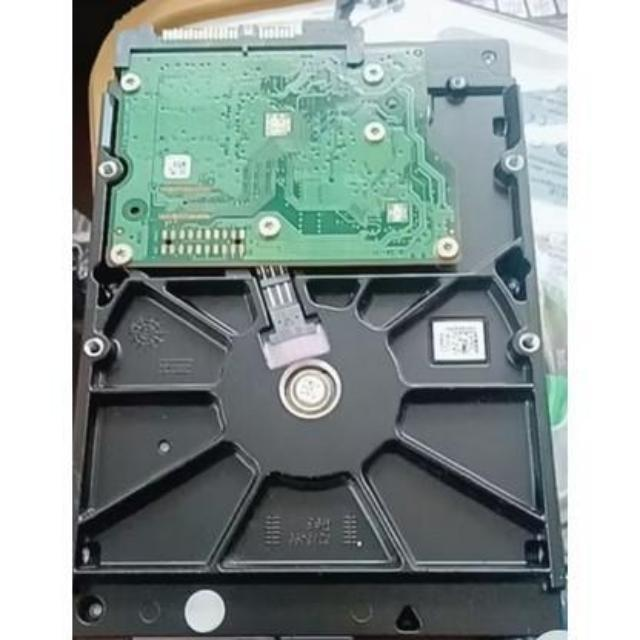DISK: (69, 8, 571, 640)
